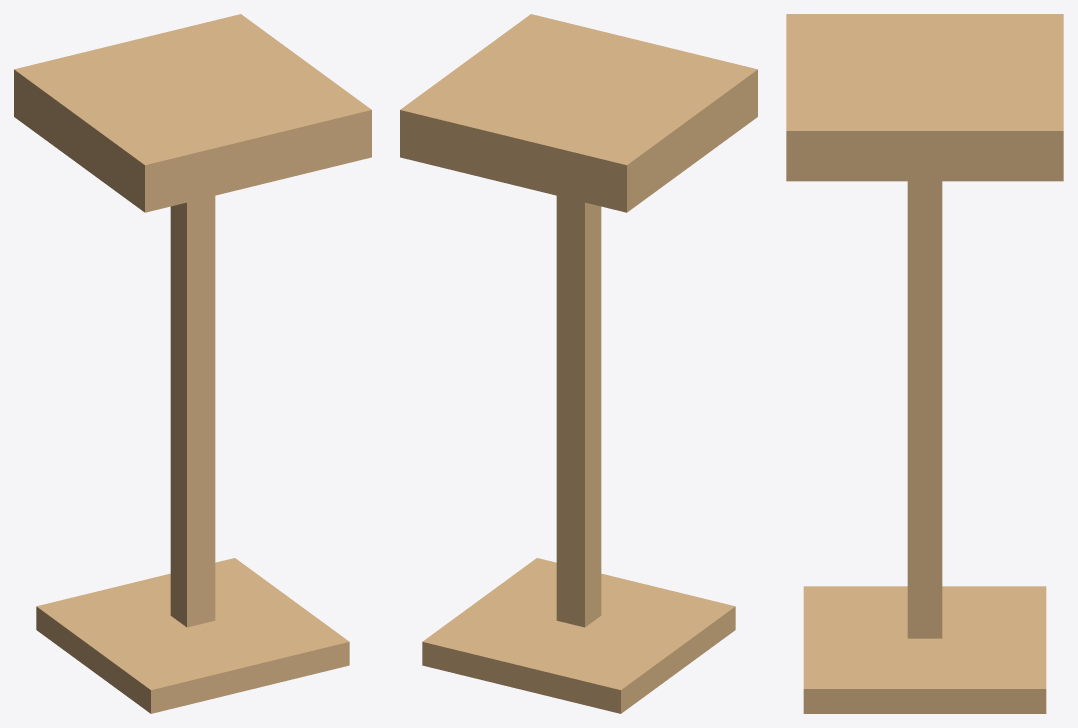
The picture shows the model from 3 angles, left to right: view 1: azimuth 30°, elevation 25°; view 2: azimuth 150°, elevation 25°; view 3: azimuth 270°, elevation 25°; orthographic projection. The views are drawn at different scales.
Visible parts, largest first — view 1: stool-seat, stool-base, stool-pole; view 2: stool-seat, stool-base, stool-pole; view 3: stool-seat, stool-base, stool-pole.
Boxes of the visible parts, x1,y1,x2,y2 form: stool-seat: [14, 14, 371, 212]; stool-base: [36, 558, 349, 713]; stool-pole: [170, 196, 215, 627]; stool-seat: [400, 14, 757, 212]; stool-base: [422, 558, 735, 713]; stool-pole: [556, 196, 601, 627]; stool-seat: [786, 14, 1063, 181]; stool-base: [803, 586, 1046, 713]; stool-pole: [907, 181, 942, 638].
Bounding box in the file's own units: 0.4 × 0.94 × 0.4.
